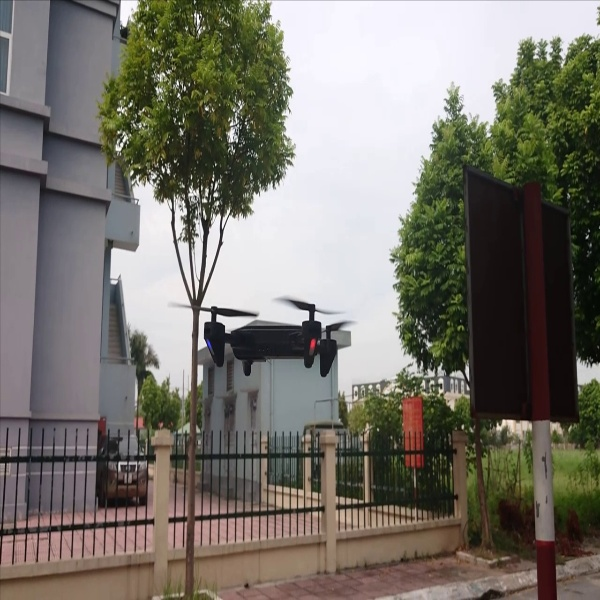drone: (176, 294, 358, 385)
